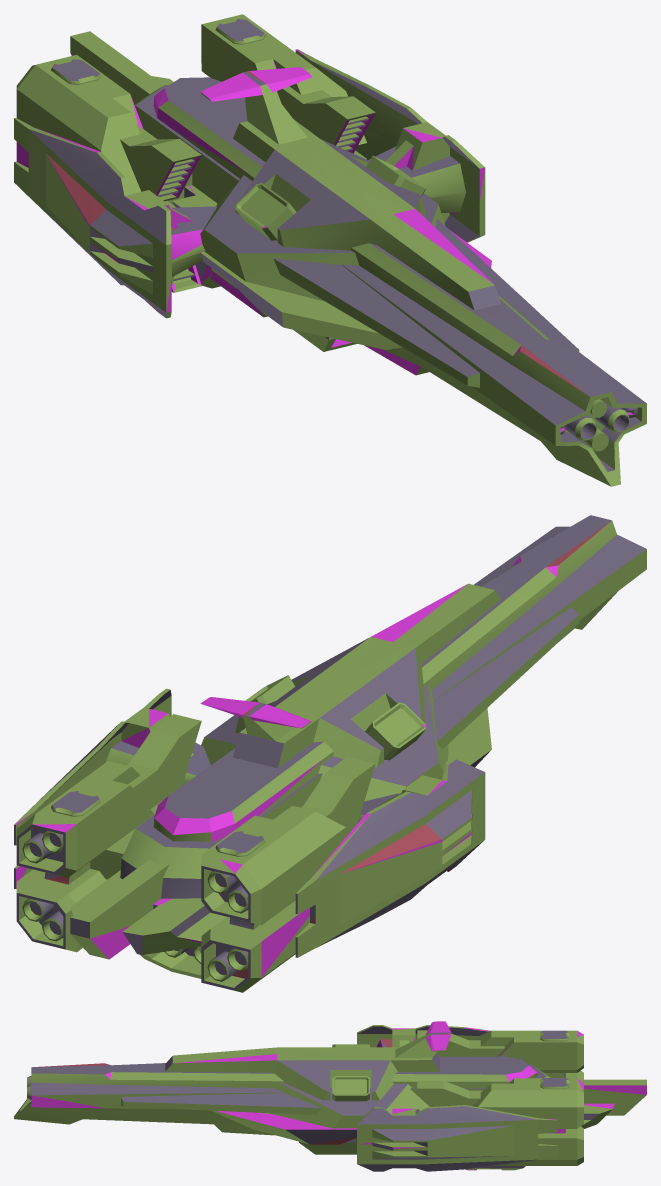
Rendered from Blender249_modify.fbx.
3 views of the same model, one above another, from view 1: azimuth 30°, elevation 25°; view 2: azimuth 150°, elevation 25°; view 3: azimuth 270°, elevation 25° (orthographic). The views are drawn at different scales.
Parts seen in each view (by area): view 1: 000-0-0, 001-0-1; view 2: 000-0-0, 001-0-1; view 3: 000-0-0, 001-0-1.
Part boxes in pixels (box(x1,y1,x2,y2)): 000-0-0: box(14, 14, 646, 486); 001-0-1: box(29, 19, 646, 471); 000-0-0: box(14, 520, 646, 992); 001-0-1: box(14, 515, 646, 990); 000-0-0: box(14, 1021, 646, 1170); 001-0-1: box(19, 1026, 599, 1171).
Bounding box in the file's own units: 1.05 × 0.6343 × 2.78.
